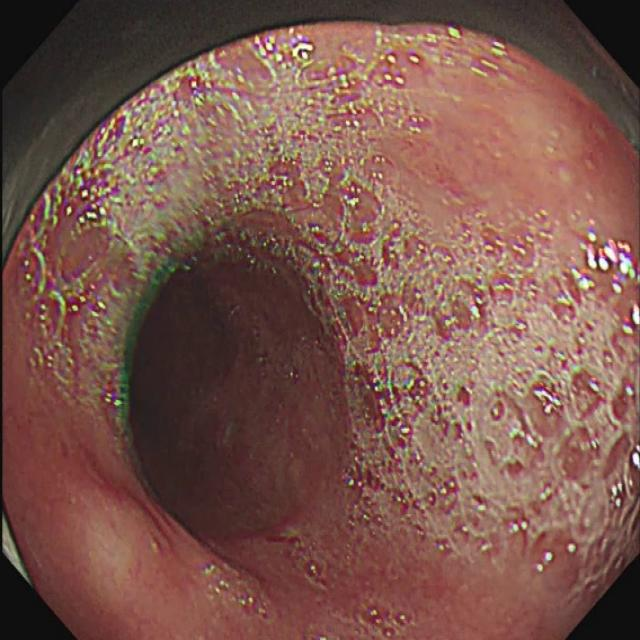A: (68, 475, 171, 601)
E: (128, 248, 345, 540)
T: (350, 219, 640, 570), (130, 30, 511, 241), (17, 115, 137, 425), (202, 562, 272, 619), (278, 530, 331, 591), (352, 595, 423, 640)
U: (572, 229, 640, 290), (620, 300, 640, 336)
